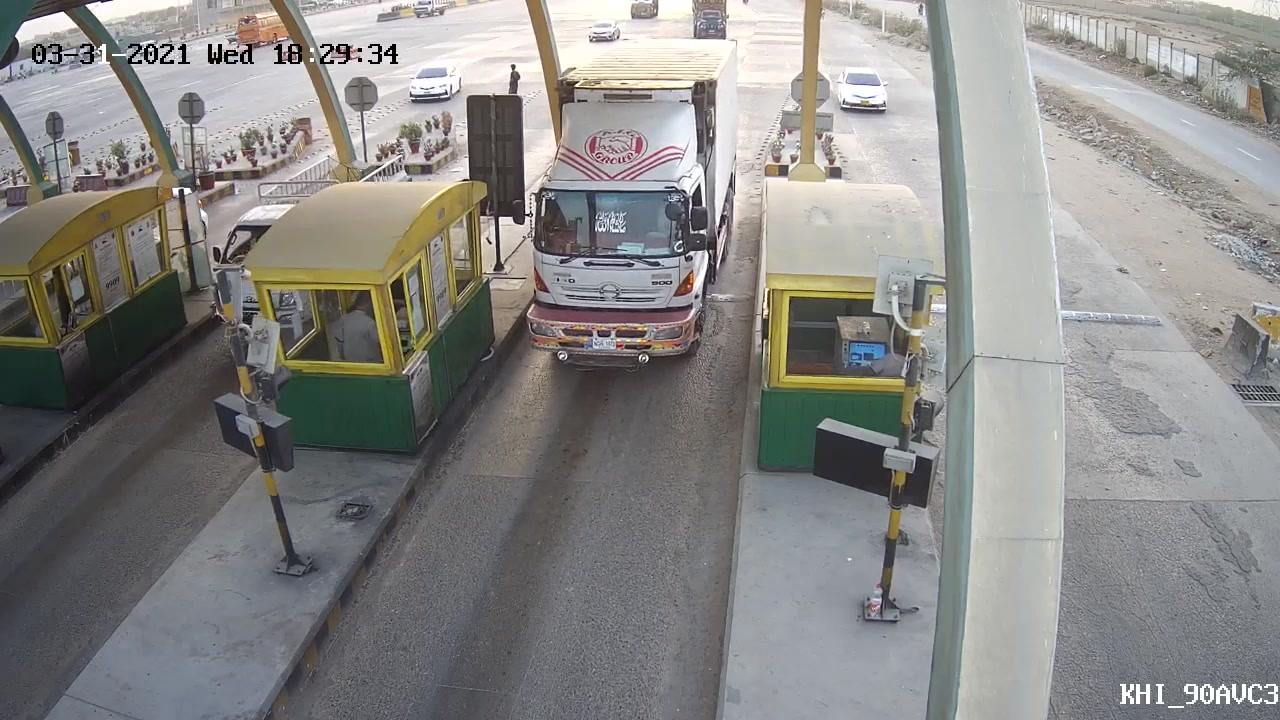F6: (490, 38, 747, 379)
